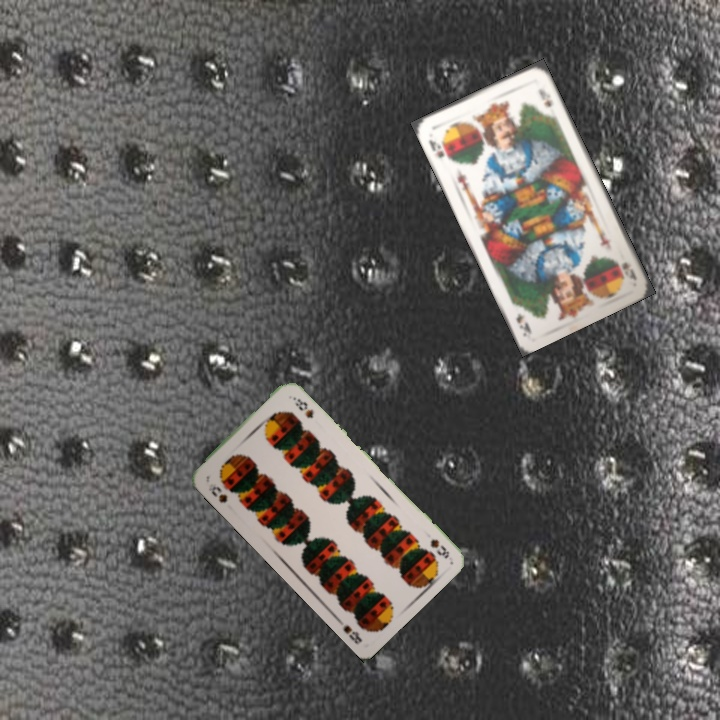S8: (426, 535, 452, 562), (204, 482, 230, 506)
SK: (425, 135, 447, 161), (617, 258, 639, 283)
